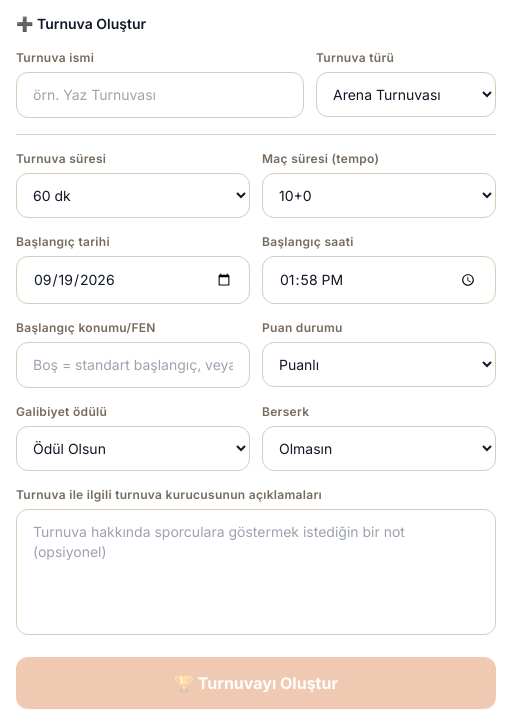
Test: Turnuva Oluştur — /play/tournament/create › Madde 2026-09-XX: İsviçre seçilince Tur Sayısı/Galibiyet Ödülü/Berserk kapanır › Klasik tempo seçilince (Arena kalsa bile) Berserk kartı KAPALI olur, kaybolmaz
The image size is (513, 726).
Select "30+0" in the dropdown labelled "Maç süresi (tempo)": (379, 196) [262, 173, 496, 218]
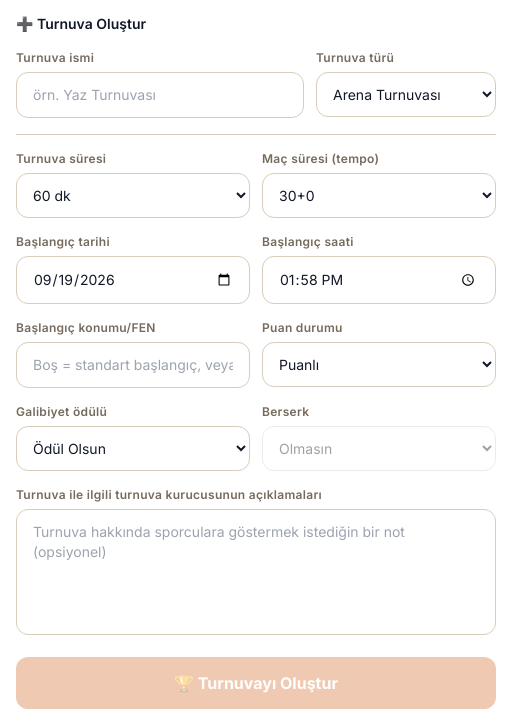
Expected: the dropdown labelled "Berserk" shows "Olmasın", [262, 426, 496, 471]
Expected: the dropdown labelled "Berserk" is disabled, [262, 426, 496, 471]
